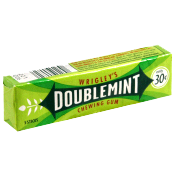grozi_6: (3, 44, 172, 131)
